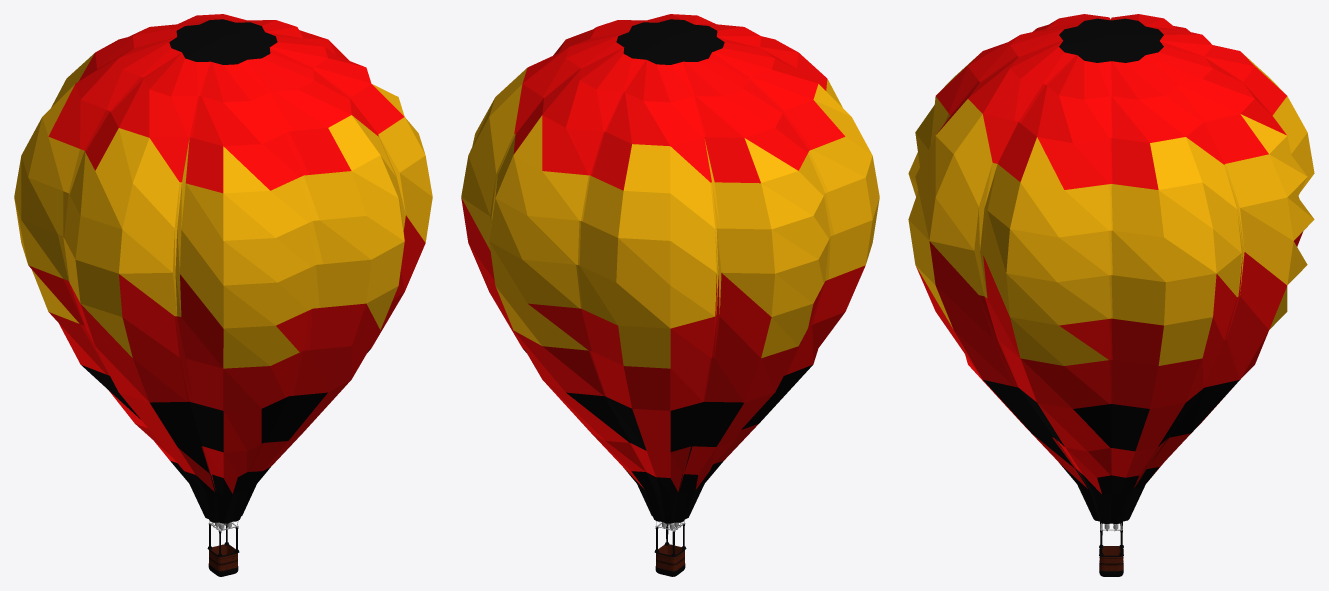
File: realSizeBalloon.obj
The picture shows the model from 3 angles, left to right: view 1: azimuth 30°, elevation 25°; view 2: azimuth 150°, elevation 25°; view 3: azimuth 270°, elevation 25°; orthographic projection.
Parts seen in each view (by area): view 1: Sphere, Circle; view 2: Sphere, Circle; view 3: Sphere, Circle.
Part boxes in pixels (<box>): Sphere: <box>14,14,432,523</box>; Circle: <box>207,519,239,576</box>; Sphere: <box>461,14,879,523</box>; Circle: <box>654,519,686,576</box>; Sphere: <box>908,14,1314,524</box>; Circle: <box>1099,522,1123,576</box>.
Size of the model in its own units: 10835 by 15836 by 10835.
